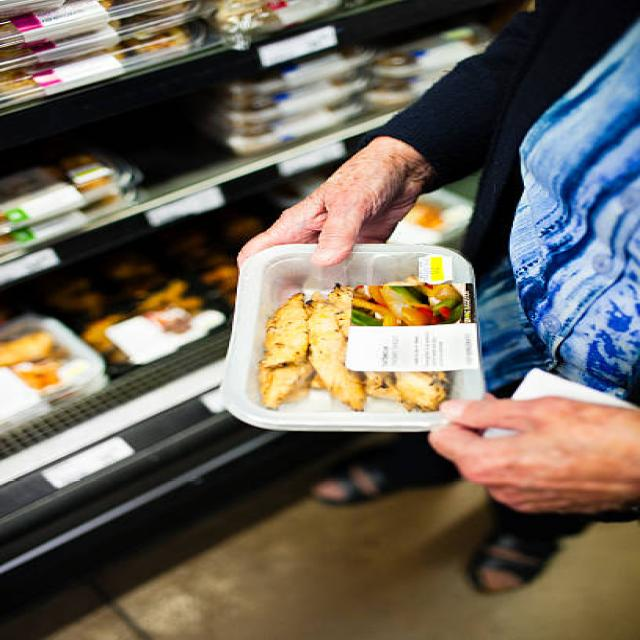article: (224, 244, 483, 433)
hands: (240, 137, 433, 267), (431, 396, 638, 512)
